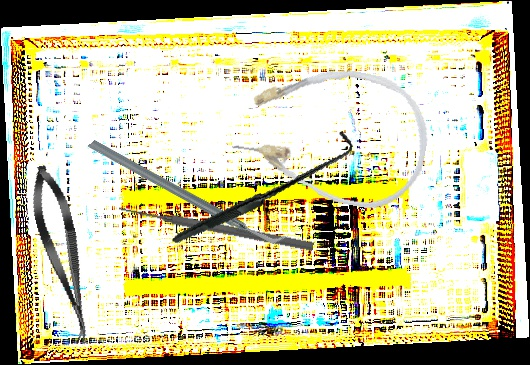Cannula: (225, 50, 438, 218)
Chopper: (86, 82, 289, 301)
Hook Surgical: (171, 99, 356, 277)
Micro Scissor: (23, 161, 102, 347)
Pusher: (117, 202, 315, 253)
